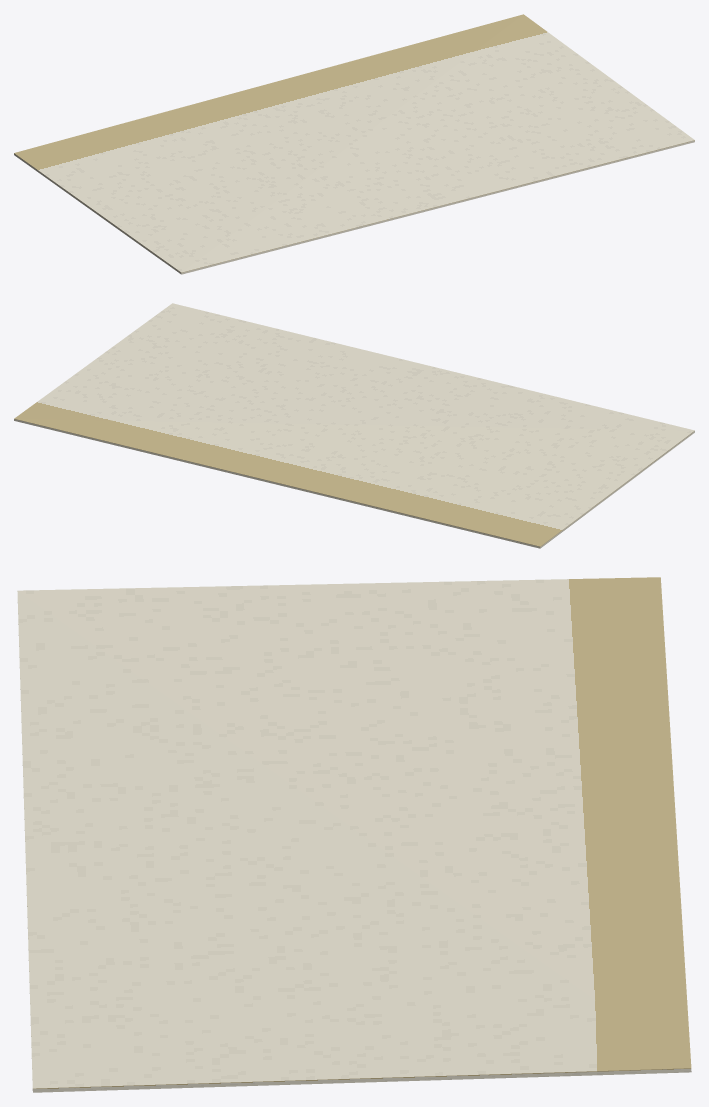
File: rolling_paper.glb
The picture shows the model from 3 angles, top to bottom: view 1: azimuth 30°, elevation 25°; view 2: azimuth 150°, elevation 25°; view 3: azimuth 270°, elevation 25°; orthographic projection. The views are drawn at different scales.
Parts seen in each view (by area): view 1: block_thin leaf; view 2: block_thin leaf; view 3: block_thin leaf.
Boxes of the visible parts, x1,y1,x2,y2 form: block_thin leaf: (14,14,694,274); block_thin leaf: (14,303,694,548); block_thin leaf: (17,577,691,1092).
Bounding box in the file's own units: 0.079 × 0.0018 × 0.044.
Materials: 1 (1 with a texture image).
